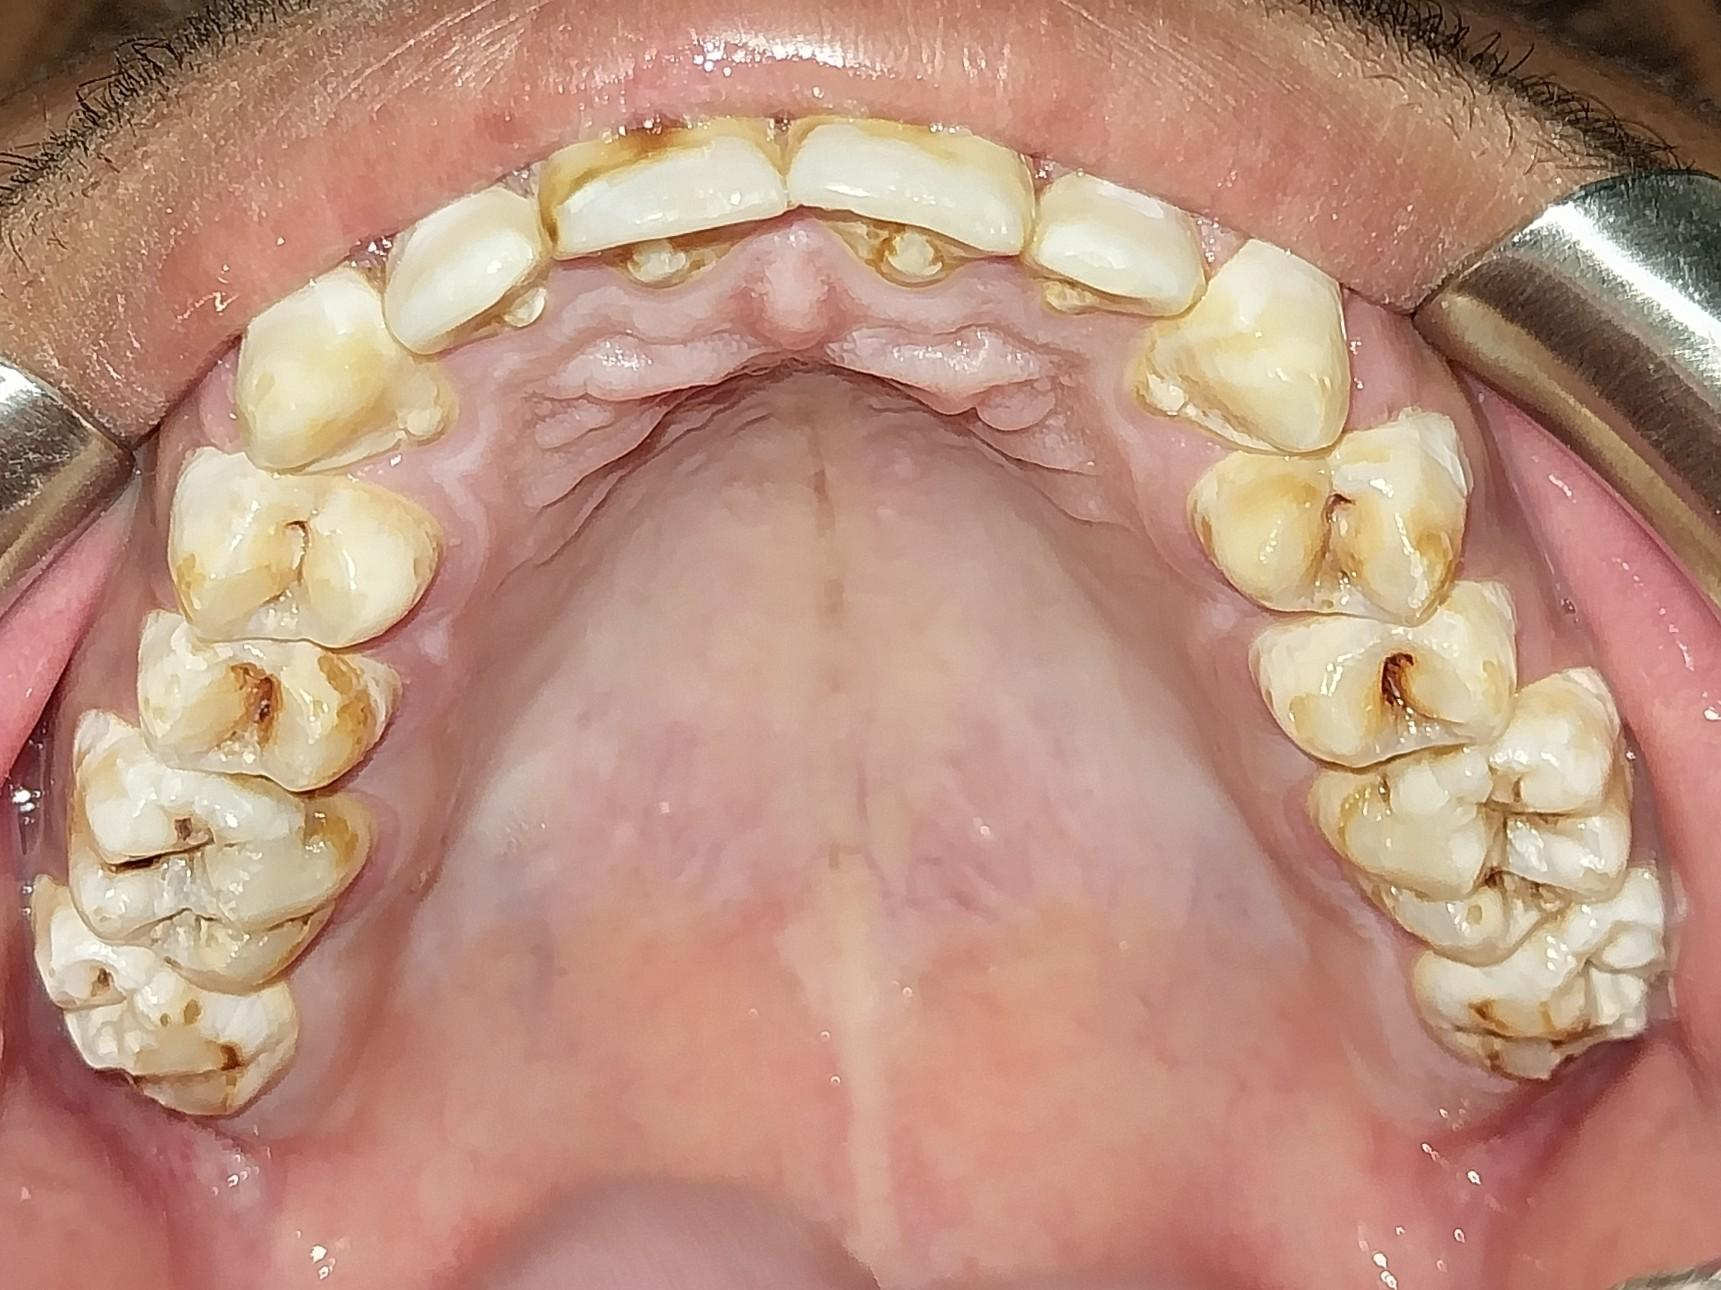D: (1309, 671, 1643, 964), (55, 704, 378, 991), (1189, 424, 1469, 627), (166, 444, 442, 650), (1246, 587, 1528, 778), (138, 604, 397, 796)
